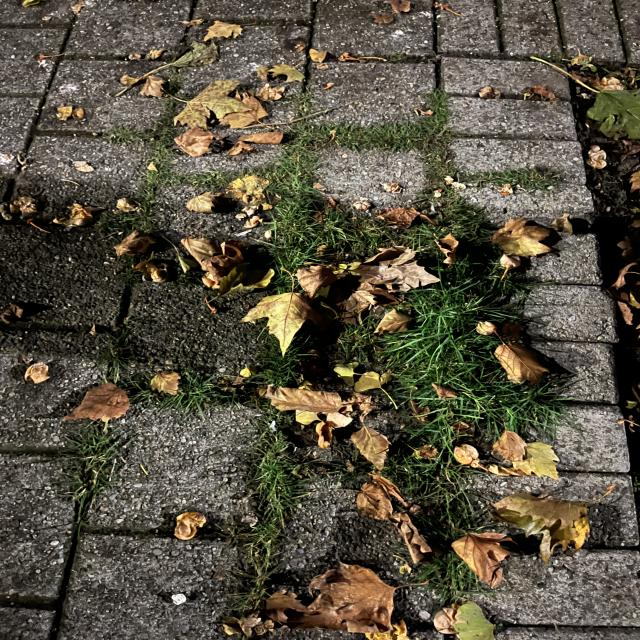leaves: (216, 568, 493, 639), (114, 68, 181, 102)
pavement: (307, 53, 639, 639)
weed: (325, 286, 533, 596), (107, 139, 235, 247)
